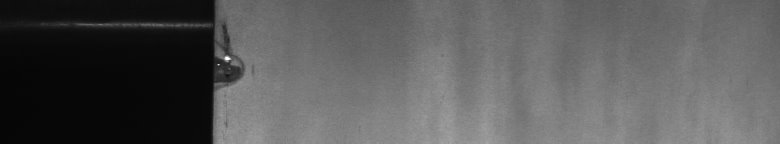hb: (224, 20, 255, 127)
